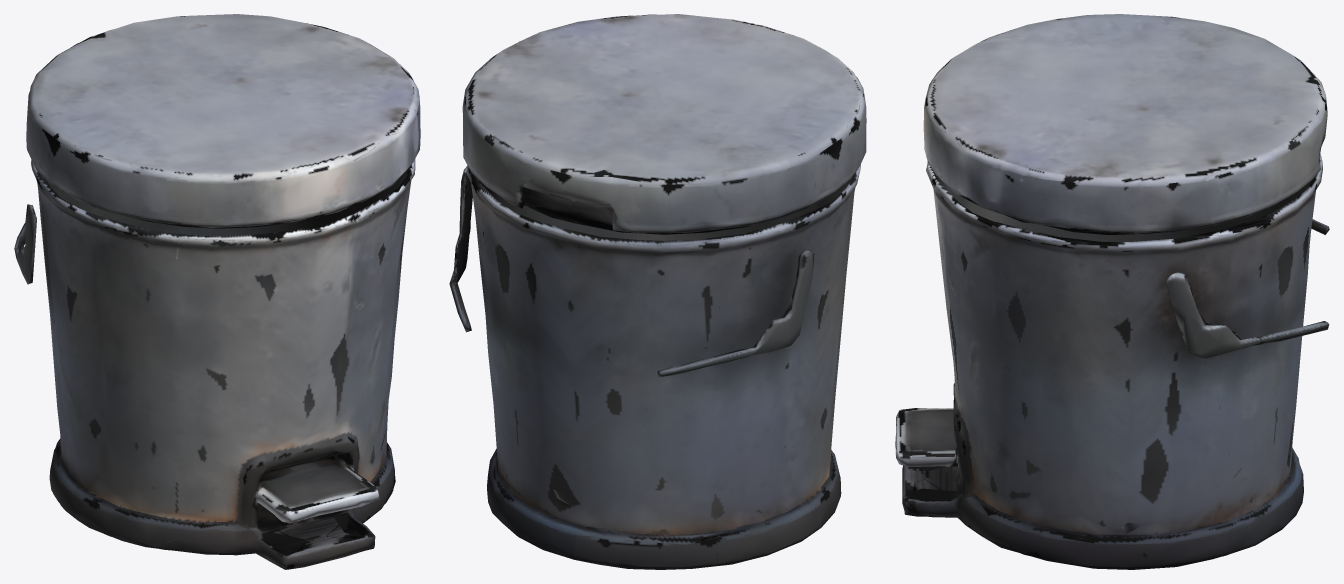
File: foyer_WasteBasket.glb
3 views of the same model, side by side, from view 1: azimuth 30°, elevation 25°; view 2: azimuth 150°, elevation 25°; view 3: azimuth 270°, elevation 25° (orthographic). The views are drawn at different scales.
Parts seen in each view (by area): view 1: world; view 2: world; view 3: world.
Boxes of the visible parts, <box> form: world: <box>14,14,420,569</box>; world: <box>449,14,866,569</box>; world: <box>895,14,1329,569</box>.
Size of the model in its own units: 0.9134 by 1 by 0.9808.
Materials: 1 (1 with a texture image).
